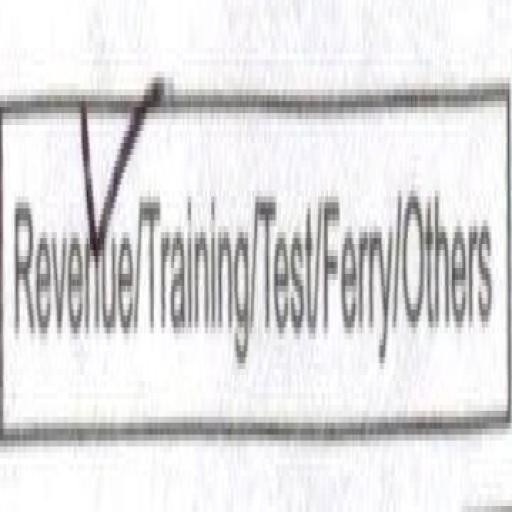check: (0, 39, 135, 494)
